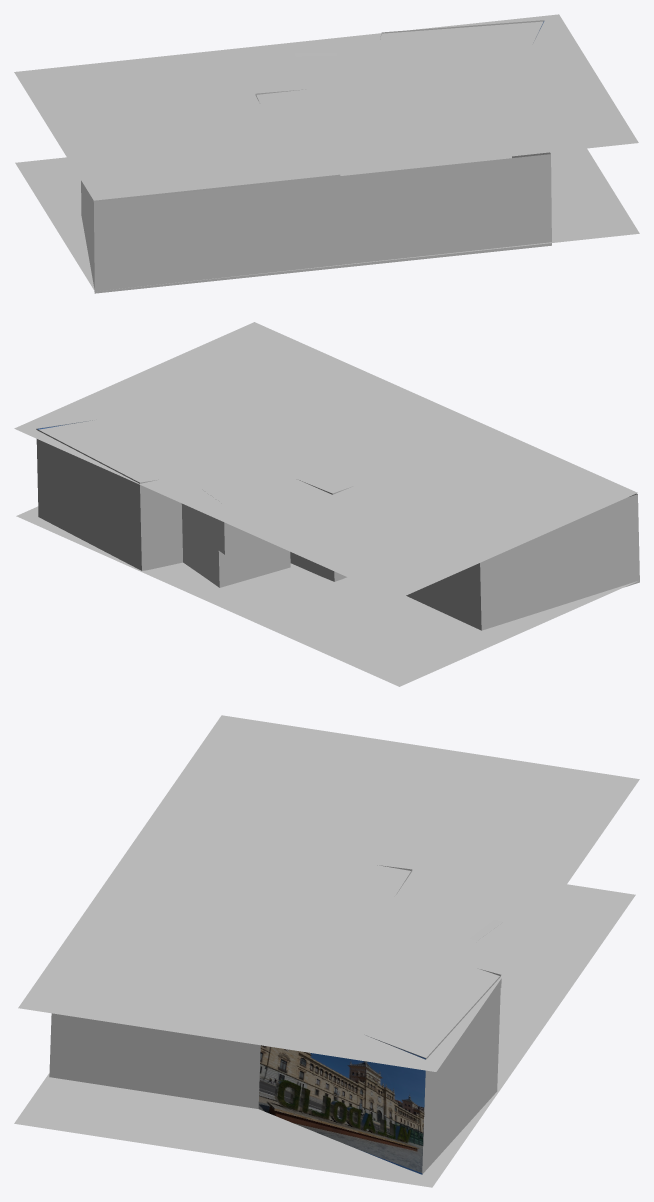
The model's file is oficina_003.fbx.
3 renders of one model, top to bottom at view 1: azimuth 30°, elevation 25°; view 2: azimuth 150°, elevation 25°; view 3: azimuth 270°, elevation 25°, orthographic. The views are drawn at different scales.
Visible parts, largest first — view 1: Oficina-Techo, Oficina, Oficina Suelo; view 2: Oficina-Techo, Oficina, Oficina Suelo; view 3: Oficina-Techo, Oficina, Oficina Suelo.
Boxes of the visible parts, x1,y1,x2,y2 form: Oficina-Techo: [14, 14, 638, 200]; Oficina: [81, 20, 551, 293]; Oficina Suelo: [15, 148, 639, 290]; Oficina-Techo: [14, 322, 637, 599]; Oficina: [36, 420, 639, 630]; Oficina Suelo: [16, 506, 637, 686]; Oficina-Techo: [18, 715, 639, 1071]; Oficina: [49, 865, 503, 1174]; Oficina Suelo: [14, 884, 635, 1187].
Bounding box in the file's own units: 1320 × 231 × 1007.
